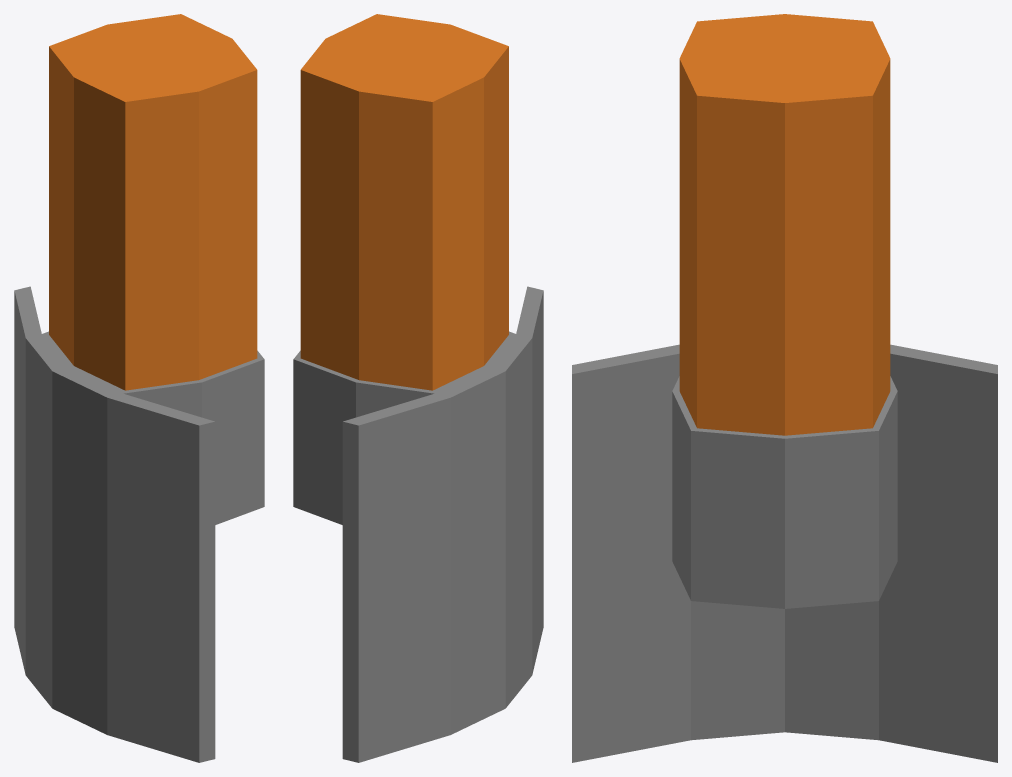
Rendered from showel.glb.
3 views of the same model, side by side, from view 1: azimuth 30°, elevation 25°; view 2: azimuth 150°, elevation 25°; view 3: azimuth 270°, elevation 25° (orthographic). The views are drawn at different scales.
Visible parts, largest first — view 1: Куб, Cube; view 2: Куб, Cube; view 3: Куб, Cube.
Part boxes in pixels (left/top/right/bottom): Куб: left=14, top=286, right=264, bottom=762; Cube: left=49, top=14, right=257, bottom=390; Куб: left=293, top=286, right=543, bottom=762; Cube: left=300, top=14, right=508, bottom=390; Куб: left=572, top=344, right=997, bottom=762; Cube: left=679, top=14, right=890, bottom=435.
Bounding box in the file's own units: 2.81 × 9.06 × 4.84.
